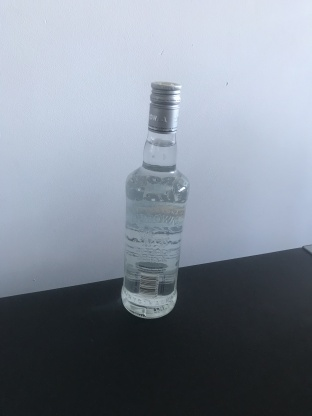nakretka: (146, 79, 182, 135)
